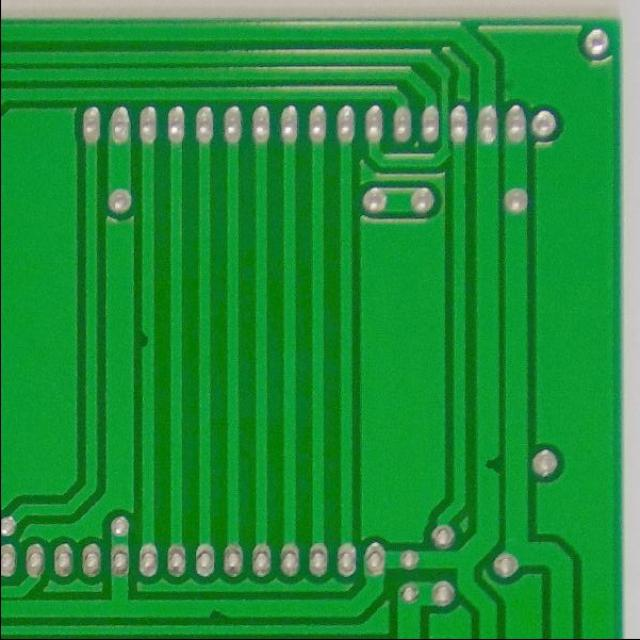MouseBite: (472, 447, 505, 482), (136, 326, 158, 356), (202, 604, 235, 621)
